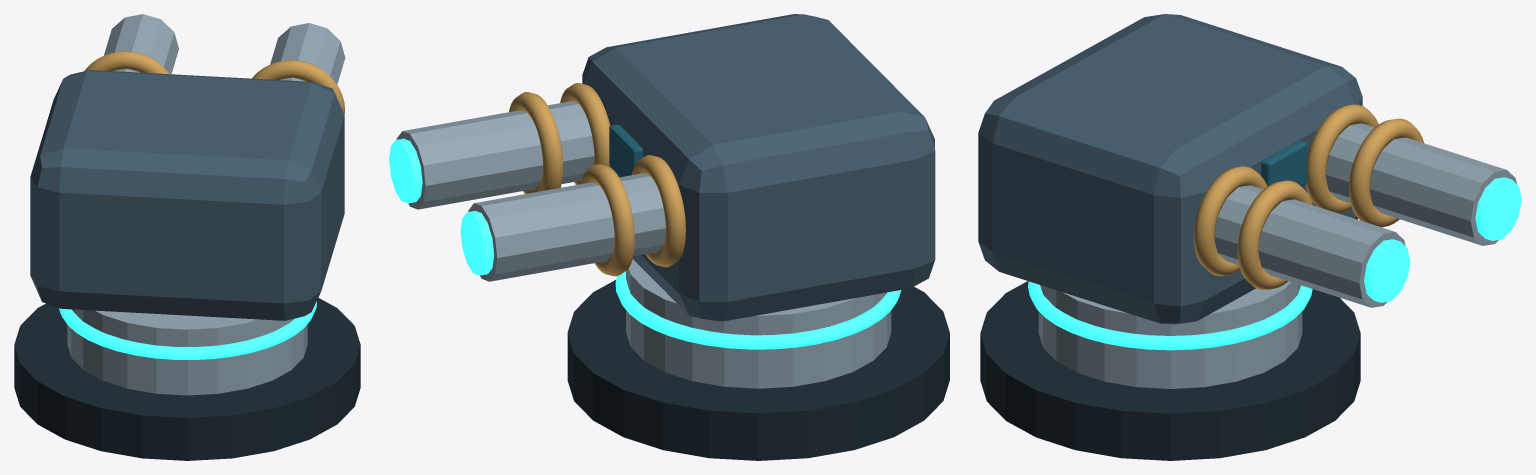
The model's file is orbain_turret.glb.
3 views of the same model, side by side, from view 1: azimuth 30°, elevation 25°; view 2: azimuth 150°, elevation 25°; view 3: azimuth 270°, elevation 25° (orthographic). The views are drawn at different scales.
Parts seen in each view (by area): view 1: Geometry_Azimuth, Geometry_orbain_turret; view 2: Geometry_Azimuth, Geometry_orbain_turret; view 3: Geometry_Azimuth, Geometry_orbain_turret.
Boxes of the visible parts, x1,y1,x2,y2 form: Geometry_Azimuth: [30, 14, 345, 320]; Geometry_orbain_turret: [14, 298, 360, 460]; Geometry_Azimuth: [389, 14, 935, 321]; Geometry_orbain_turret: [567, 259, 949, 460]; Geometry_Azimuth: [978, 14, 1521, 324]; Geometry_orbain_turret: [980, 281, 1360, 460].
Size of the model in its own units: 1.65 by 1.07 by 1.77.
